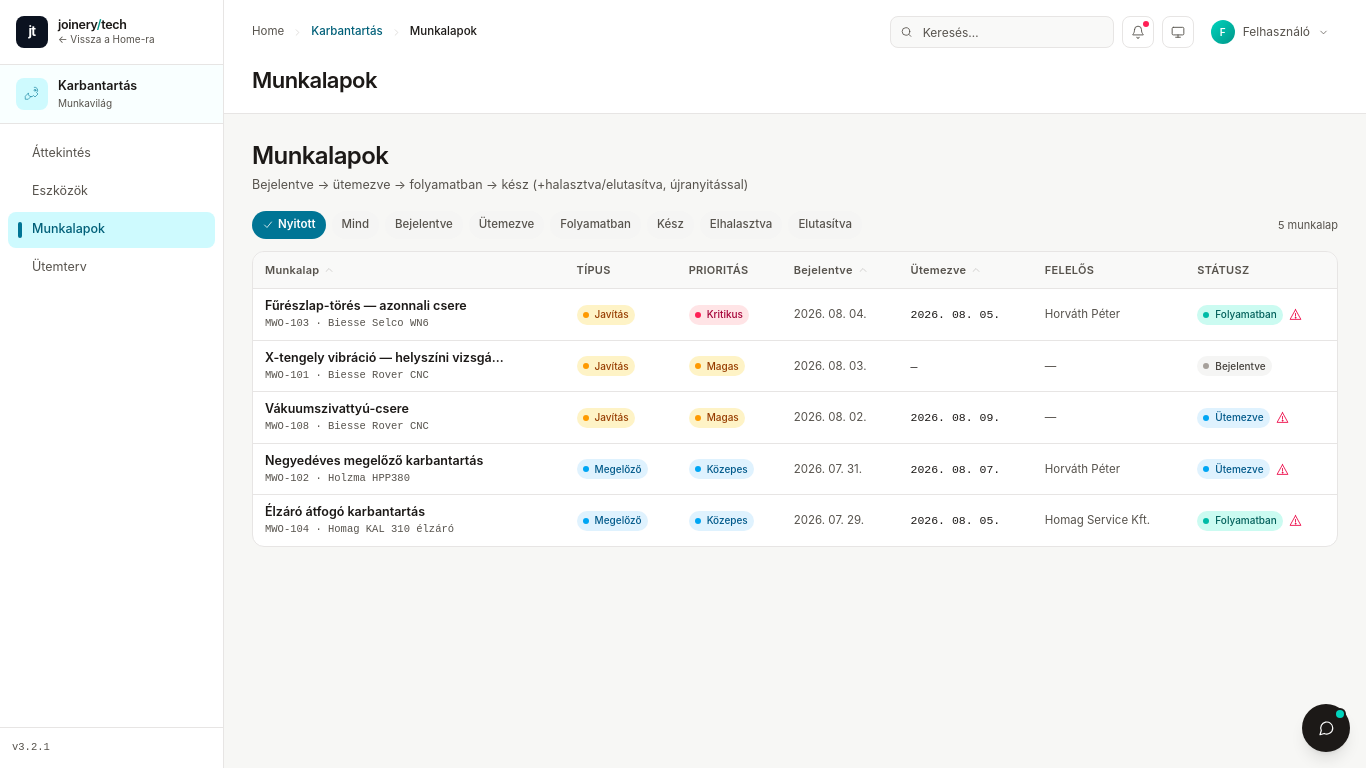
Test case: MaintenancePage (route-diszpécser, API-vezérelt képernyők) › clicking a work order opens the detail SlideOver with the FSM stepper
This screenshot has width=1366, height=768.
Click the text "X-tengely vibráció — helyszíni vizsgálat": click(385, 358) [265,349,505,368]
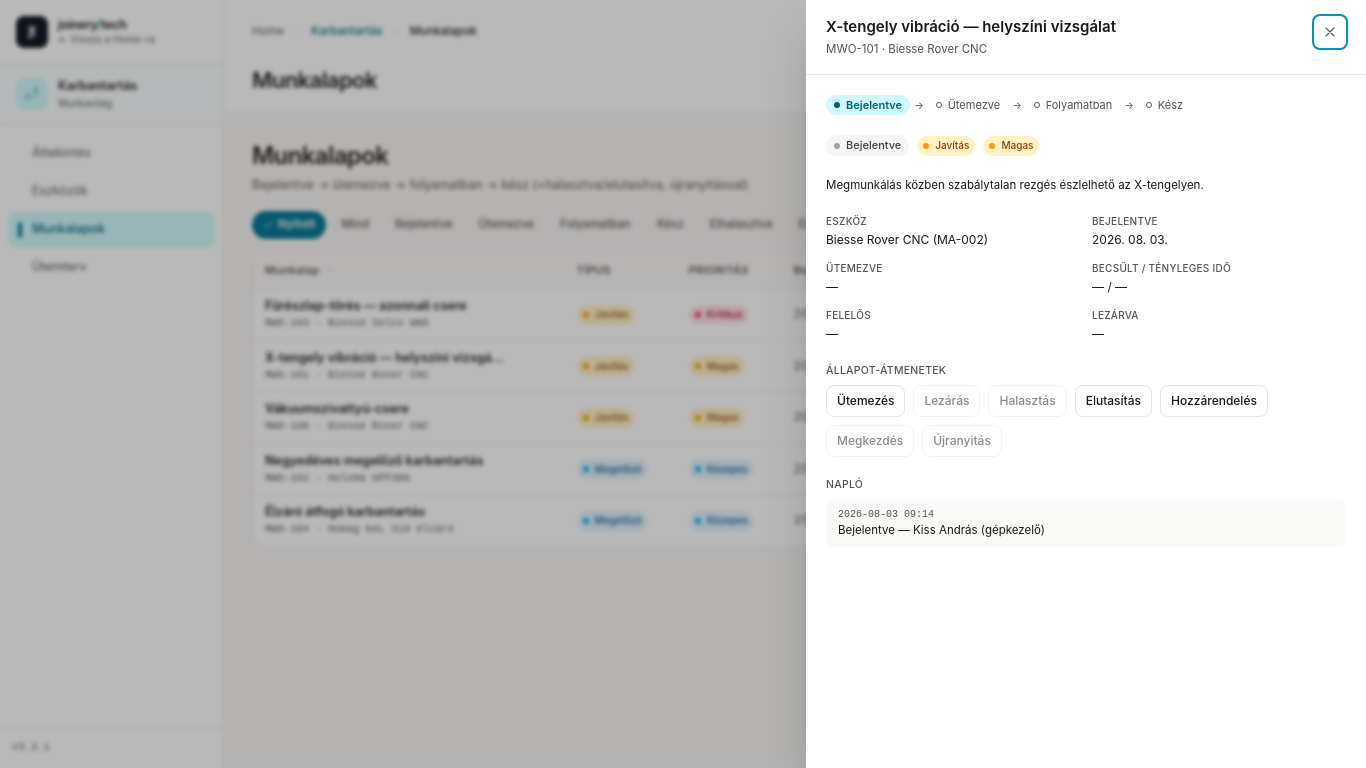
Now the text "Állapot-átmenetek" is shown, box [826,364,946,377]
Now the list named "Munkalap állapota" is shown, box [826,95,1183,115]
